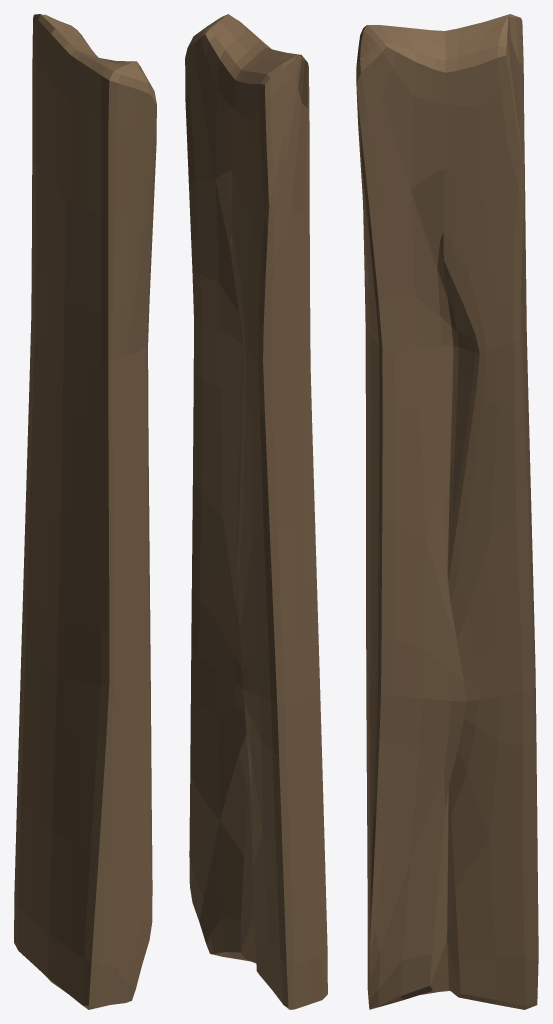
File: Балка  1.fbx
The picture shows the model from 3 angles, left to right: view 1: azimuth 30°, elevation 25°; view 2: azimuth 210°, elevation 25°; view 3: azimuth 270°, elevation 25°; orthographic projection. The views are drawn at different scales.
Visible parts, largest first — view 1: Plane.006; view 2: Plane.006; view 3: Plane.006.
Boxes of the visible parts, bbox=[...] form: Plane.006: bbox=[14, 14, 156, 1009]; Plane.006: bbox=[185, 14, 327, 1009]; Plane.006: bbox=[356, 14, 538, 1009].
Bounding box in the file's own units: 24.31 × 323 × 54.
